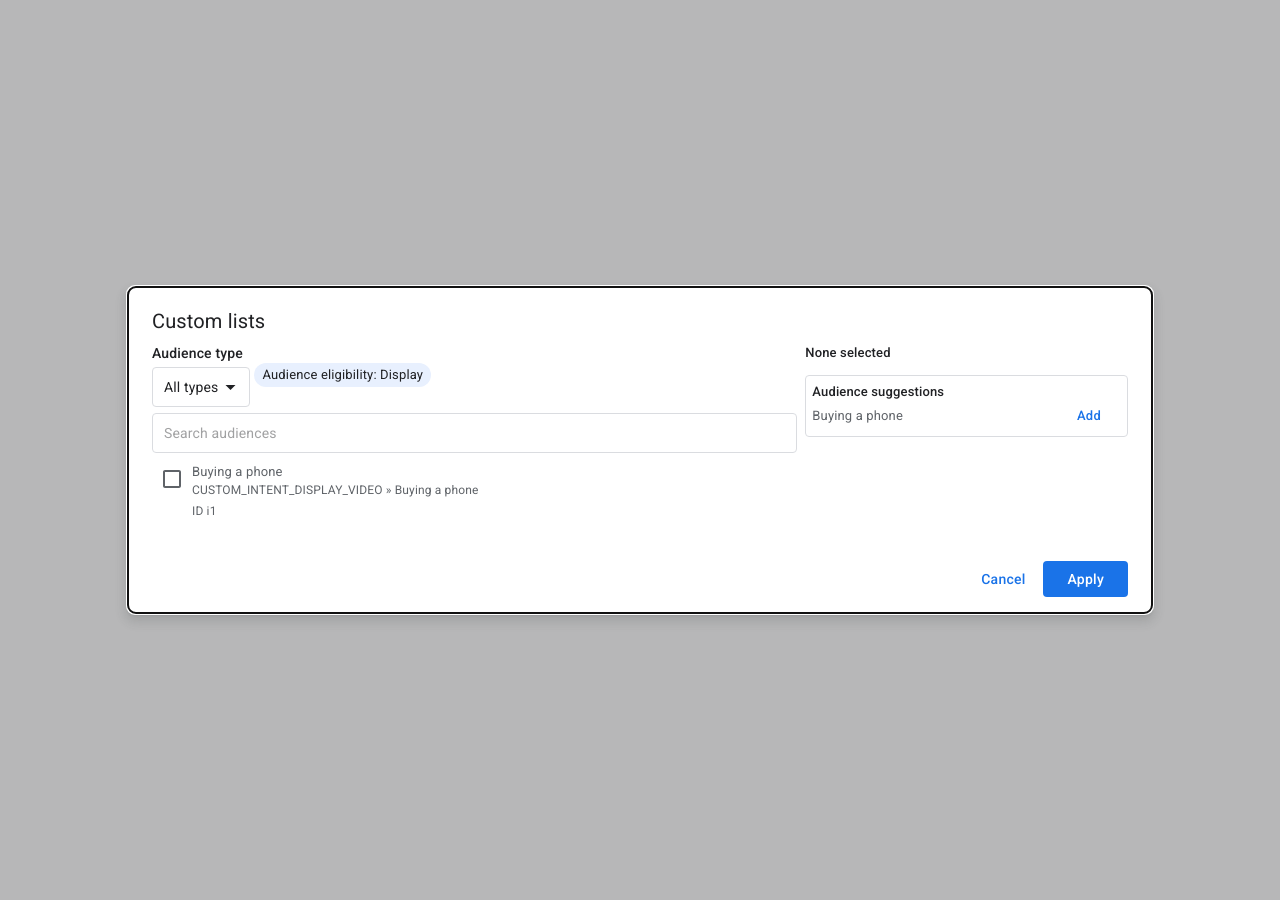
AudiencePicker: custom lists (module 10 2.5, module 14 S2) › an empty category says so and links to the form that creates such a list
This screenshot has width=1280, height=900.
Click the dropdown named "Audience type".
click(191, 387)  # box [164,379,218,395]
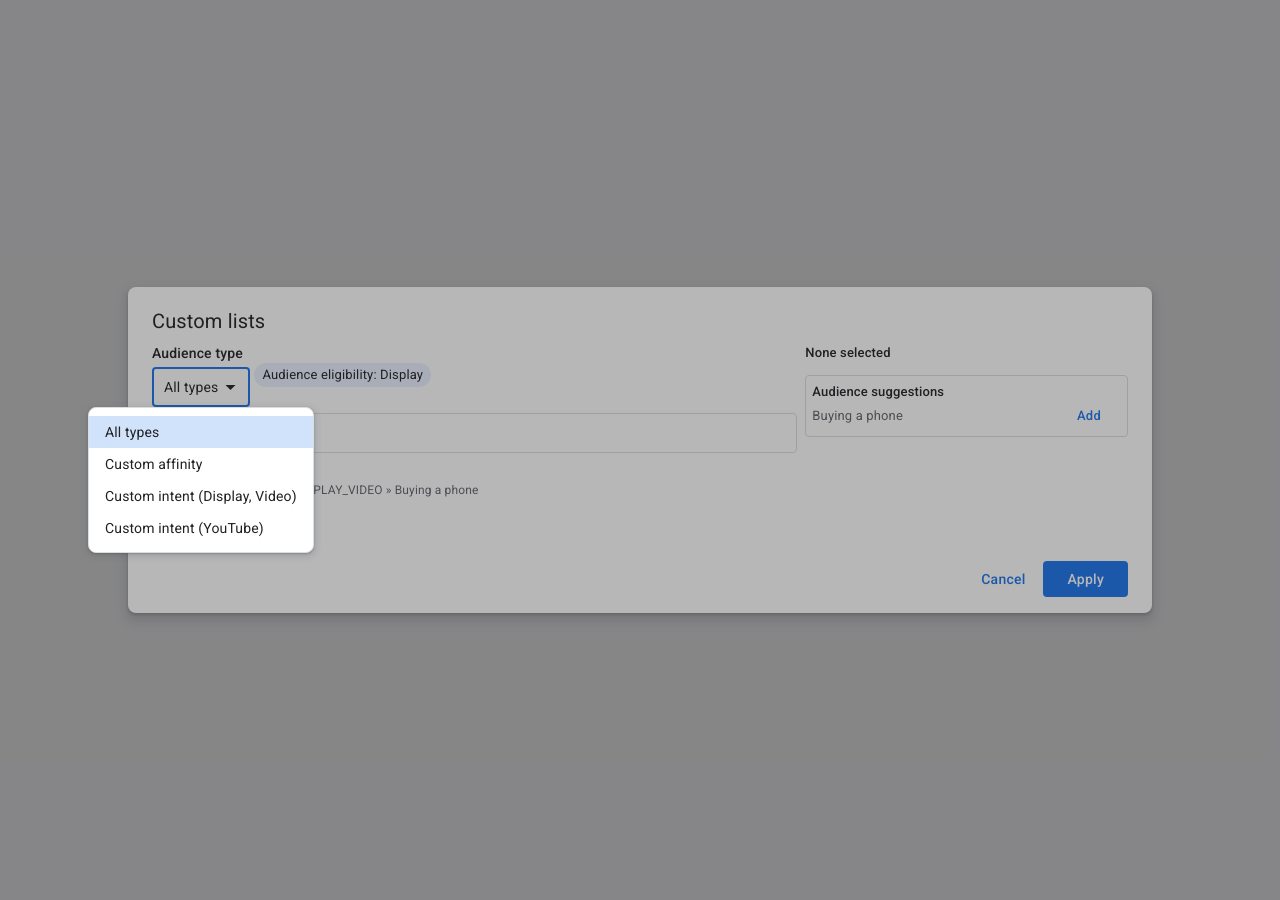
Click the option "Custom affinity".
click(154, 464)  # box [105,456,203,472]
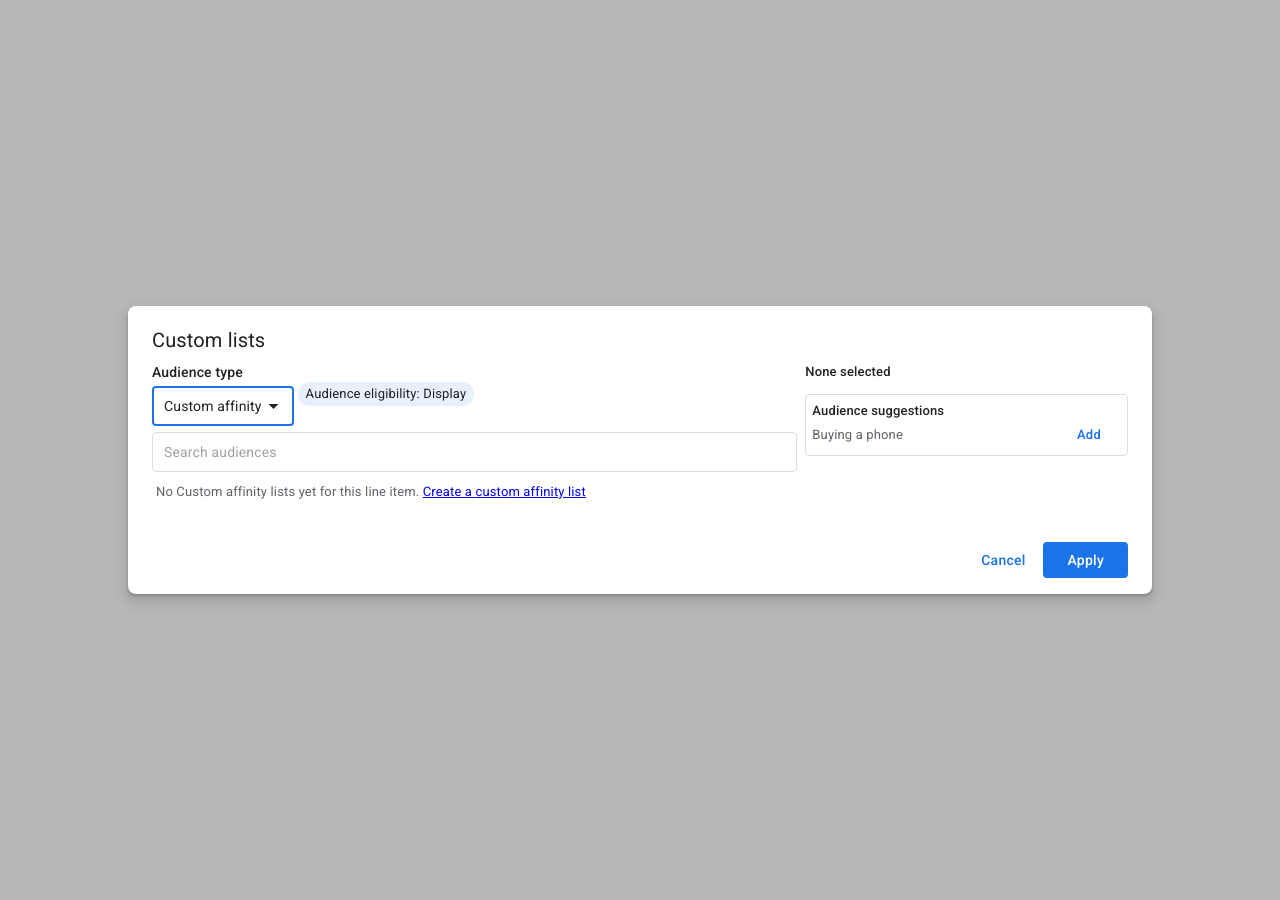
Check: the text "No Custom affinity lists yet" is shown, box [156,484,419,499]
